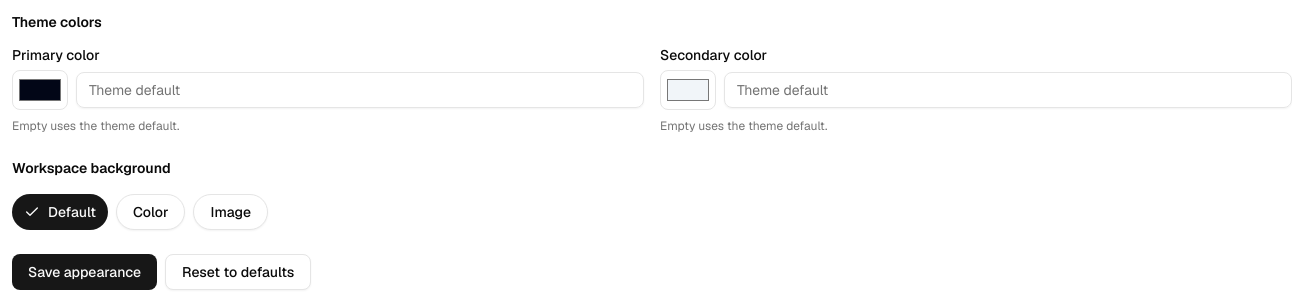
Test case: AppearanceForm › theme default and feedback › shows an unsaved changes hint until the change is saved
Type "#2563eb" into the field named "Primary color hex" at (360, 90), box [76,72,644,108]
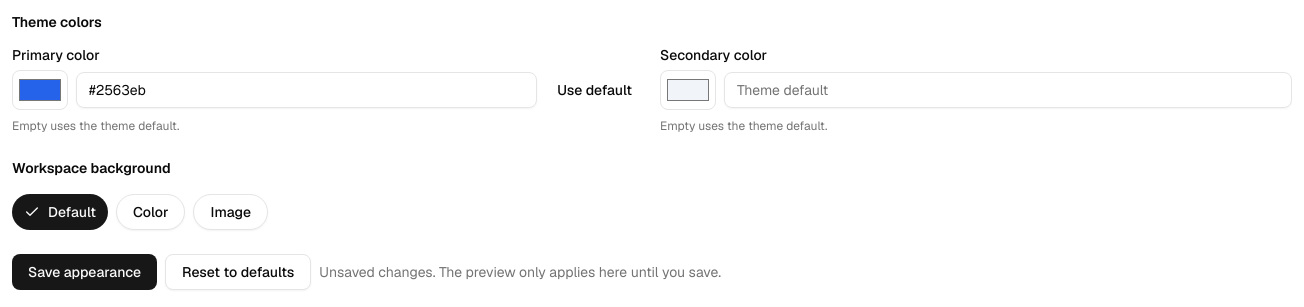
Expected: the message shows "Unsaved changes", [319,263,721,281]
Click the button "Save appearance" at (85, 272), box [12,254,157,290]
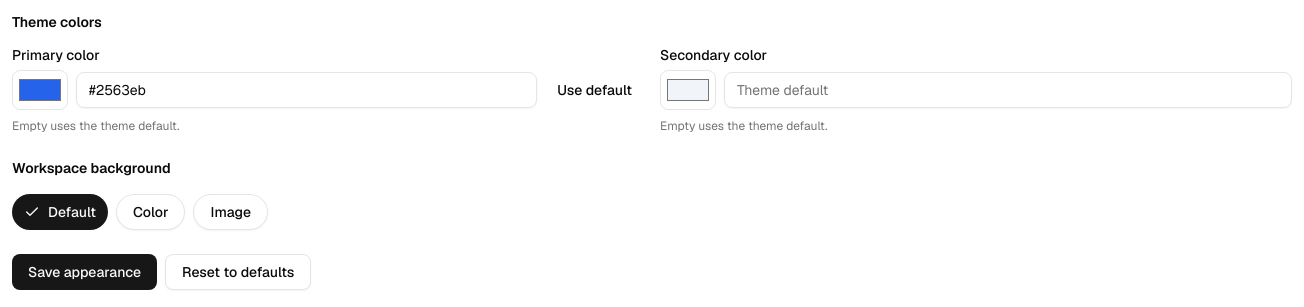
Expected: the message "Unsaved changes. The preview only applies here until you save." is gone
